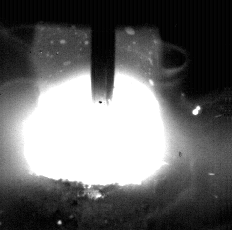arame: (91, 0, 116, 104)
poca: (19, 0, 166, 230)
